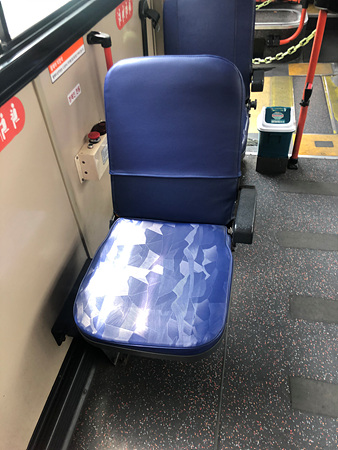seat: (71, 60, 236, 342)
